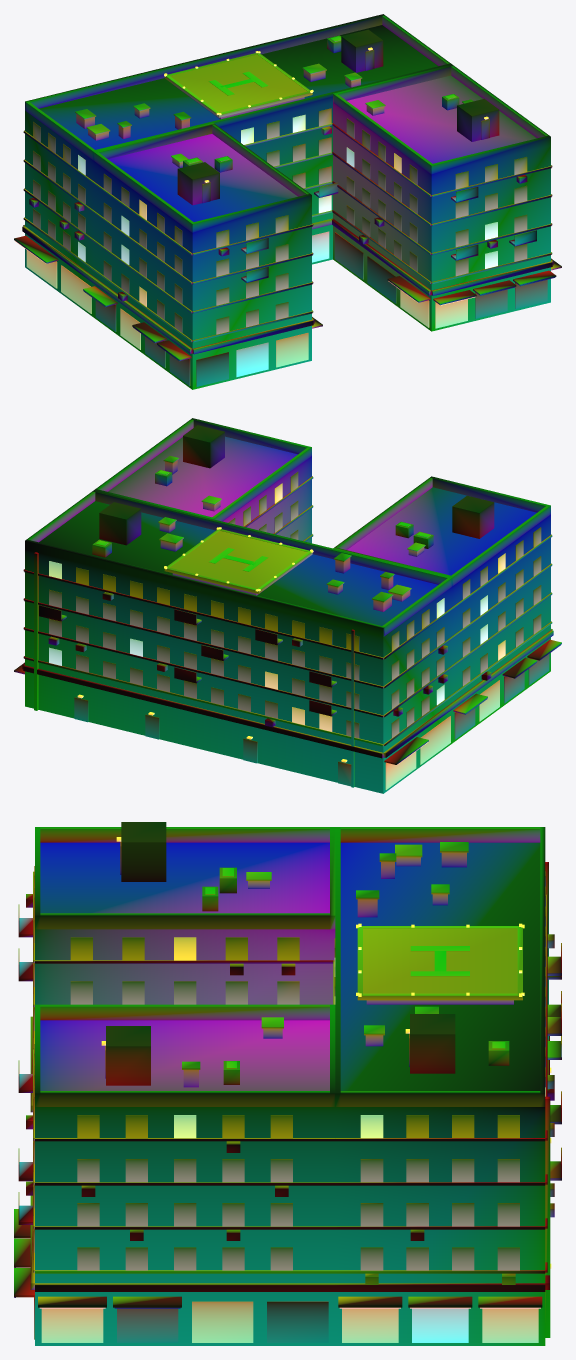
Rendered from Block_Court.fbx.
3 renders of one model, top to bottom at view 1: azimuth 30°, elevation 25°; view 2: azimuth 150°, elevation 25°; view 3: azimuth 270°, elevation 25°, orthographic. The views are drawn at different scales.
Parts seen in each view (by area): view 1: Block_Court_LOD0; view 2: Block_Court_LOD0; view 3: Block_Court_LOD0.
Part boxes in pixels (x1=…): Block_Court_LOD0: x1=14, y1=14, x2=561, y2=389; Block_Court_LOD0: x1=14, y1=418, x2=561, y2=793; Block_Court_LOD0: x1=14, y1=822, x2=561, y2=1345.
Size of what is drawn, in the model's own units: 44.8 by 20.46 by 36.5.
